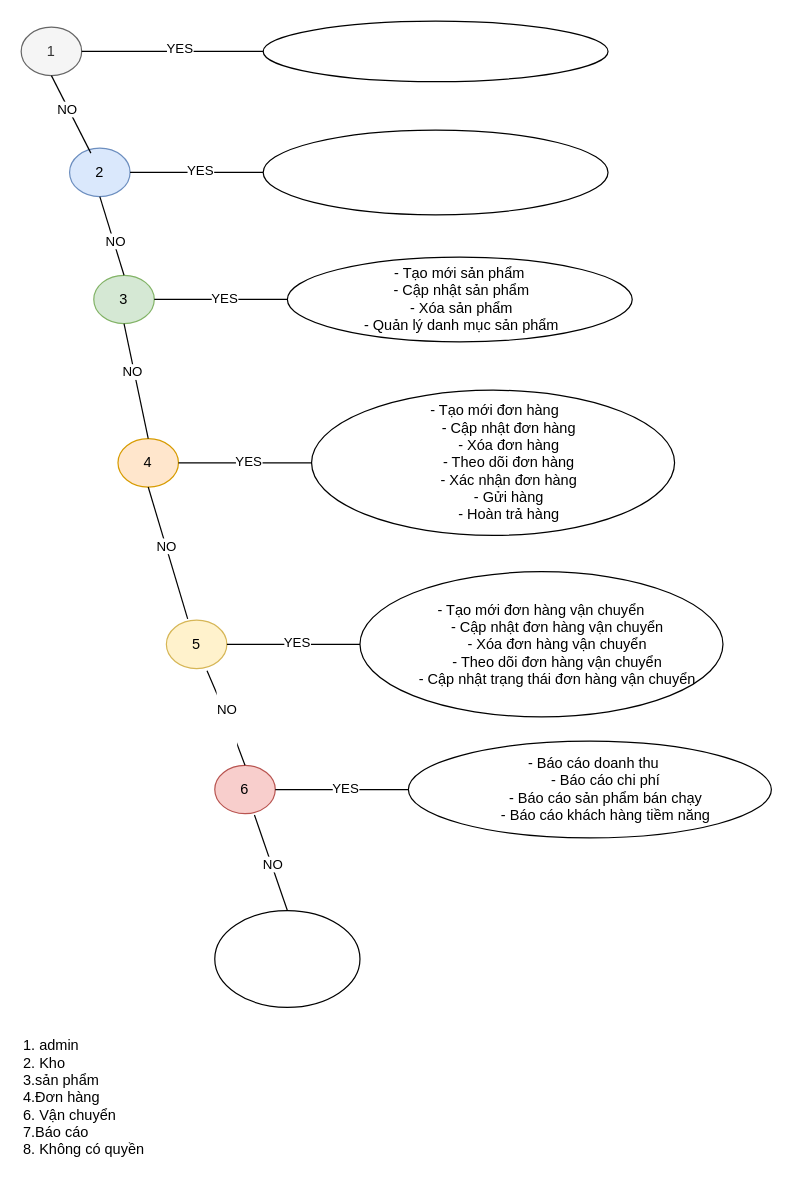
The diagram is 793 pixels wide and 1180 high, and some of its shapes have lost their labels. Here are the shapes that lost their labels. From the top down, the box of each, then its label:
(262, 20, 608, 82): - Quản lý thông tin tài khoản - Thay đổi mật khẩu - Khóa/mở khóa tài khoản
(262, 129, 608, 215): - Nhập kho - Xuất kho - Kiểm kho - Hàng tồn kho
(214, 909, 360, 1007): Thu hồi quyền truy cập
